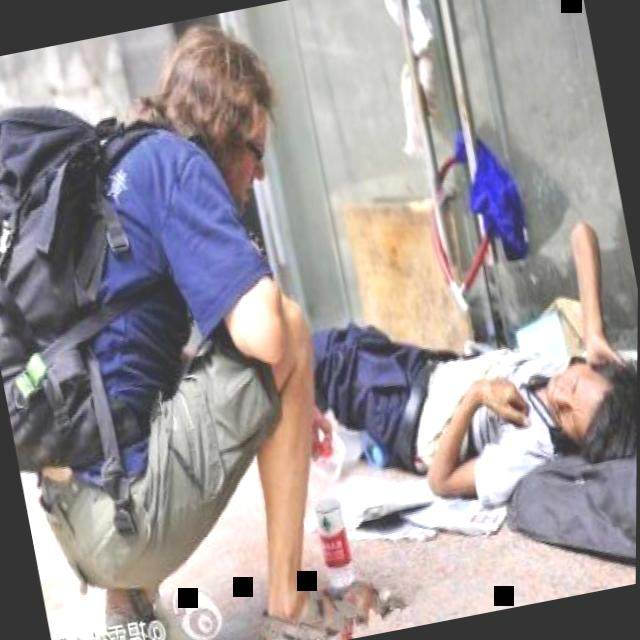Fall-Detected: (233, 209, 639, 586)
